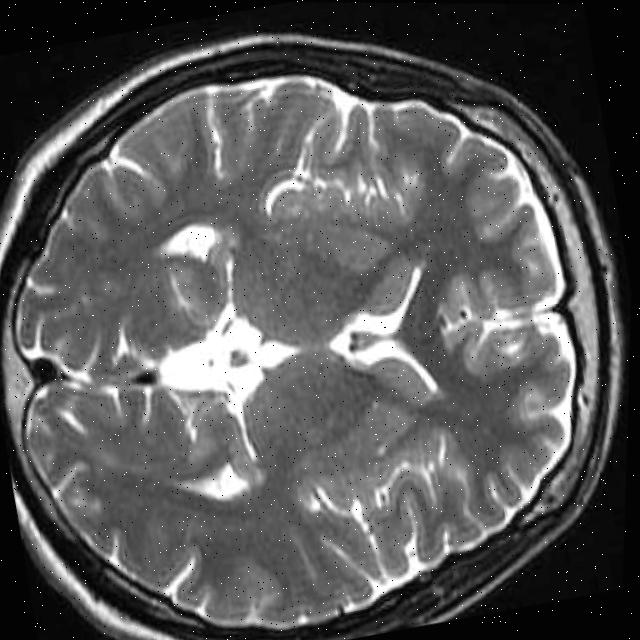NoTumor: (0, 16, 633, 640)
